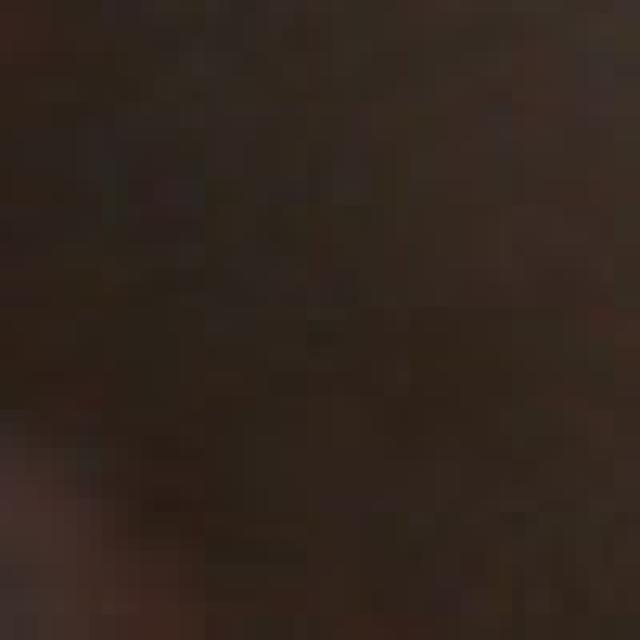fire: (7, 63, 640, 640)
